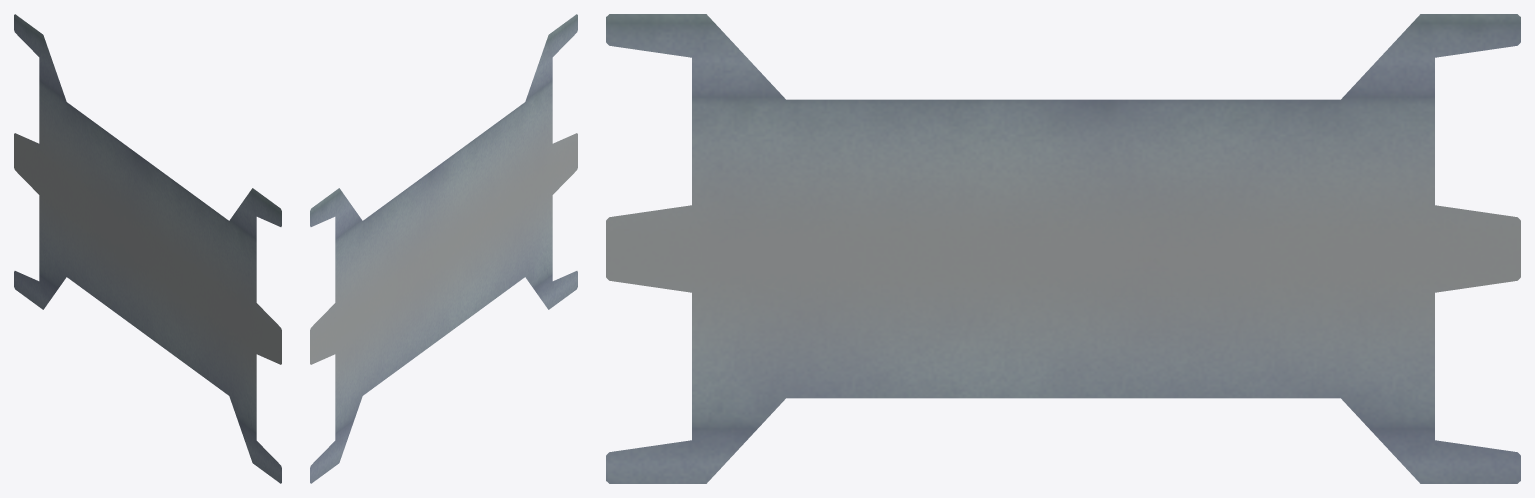
File: Track_01_Tap_Art.glb
3 renders of one model, left to right at view 1: azimuth 30°, elevation 25°; view 2: azimuth 150°, elevation 25°; view 3: azimuth 270°, elevation 25°, orthographic. The views are drawn at different scales.
Visible parts, largest first — view 1: Track_01_Tap_Art; view 2: Track_01_Tap_Art; view 3: Track_01_Tap_Art.
Boxes of the visible parts, <box> form: Track_01_Tap_Art: <box>14,14,281,483</box>; Track_01_Tap_Art: <box>310,14,577,483</box>; Track_01_Tap_Art: <box>606,14,1520,483</box>.
Bounding box in the file's own units: 0 × 1.28 × 2.26.
Materials: 1 (1 with a texture image).
